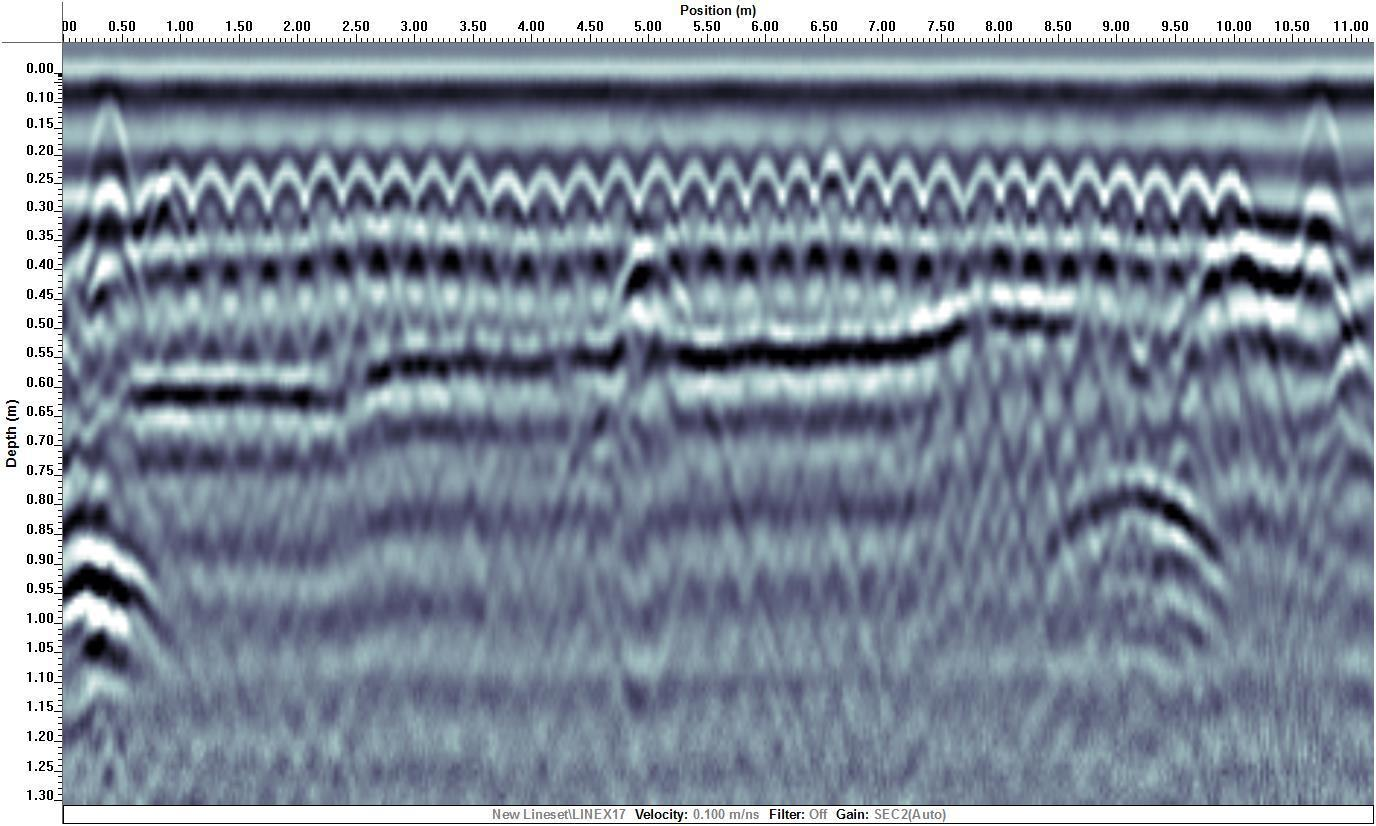hyperbola: (1292, 102, 1357, 317), (80, 100, 136, 248), (188, 157, 231, 250), (227, 161, 270, 254), (265, 153, 308, 246), (303, 151, 346, 244), (336, 150, 379, 243), (369, 148, 412, 241), (407, 148, 450, 241), (440, 149, 483, 242), (488, 153, 531, 246), (519, 151, 562, 244), (555, 149, 598, 242), (600, 148, 643, 241), (637, 152, 680, 245), (675, 150, 718, 243), (710, 152, 753, 245), (746, 149, 789, 242), (775, 148, 818, 241), (812, 146, 855, 239), (843, 145, 886, 238), (885, 148, 928, 241), (992, 151, 1035, 244), (914, 144, 957, 237), (960, 145, 1003, 238), (1028, 149, 1071, 242), (1064, 151, 1107, 244), (1101, 149, 1144, 242), (1138, 154, 1181, 247), (1172, 162, 1215, 255), (1203, 160, 1246, 253)
